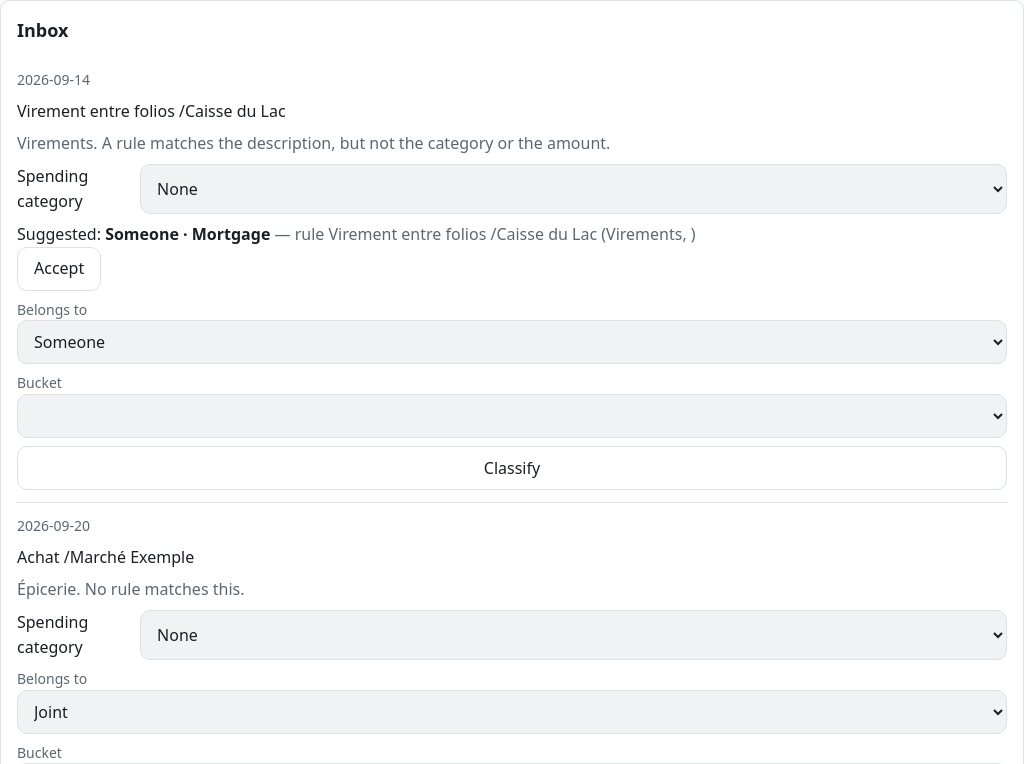
it: accepting a suggestion sends its rule and the row leaves the inbox
Check: the list item "Virement entre folios /Caisse du Lac" is shown, box [17, 100, 286, 122]
Click the button "Accept": (59, 269) [17, 247, 101, 291]
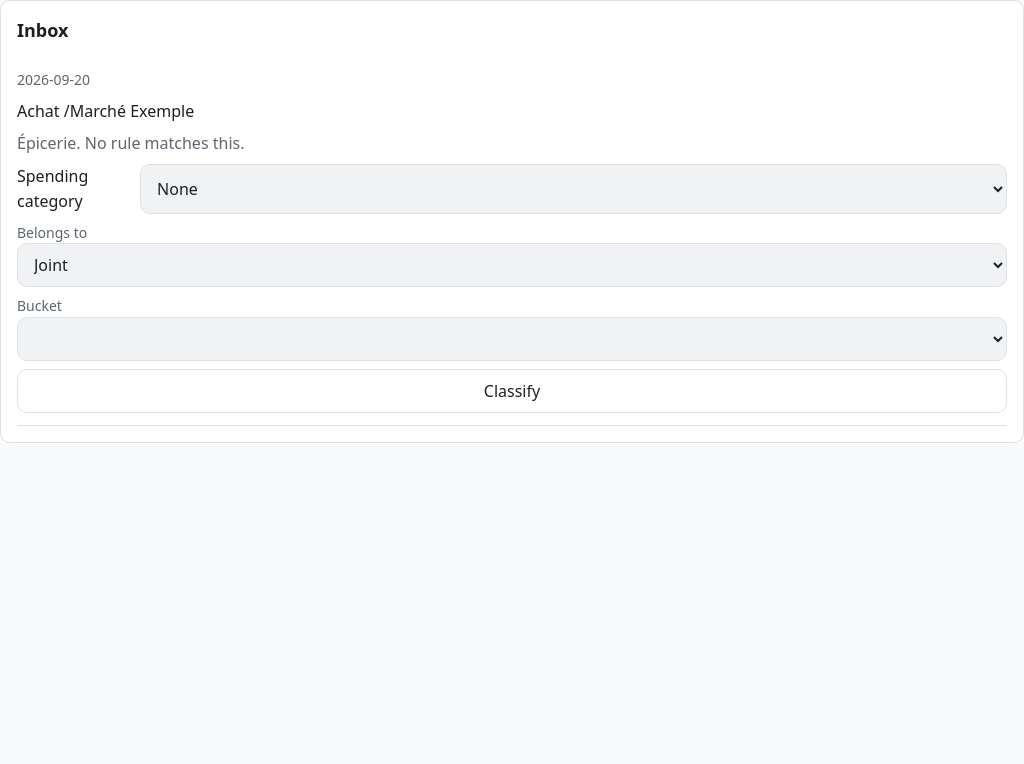
Check: the text "Achat /Marché Exemple" is shown, box [17, 100, 194, 122]
Check: the text "Virement entre folios /Caisse du Lac" is gone
